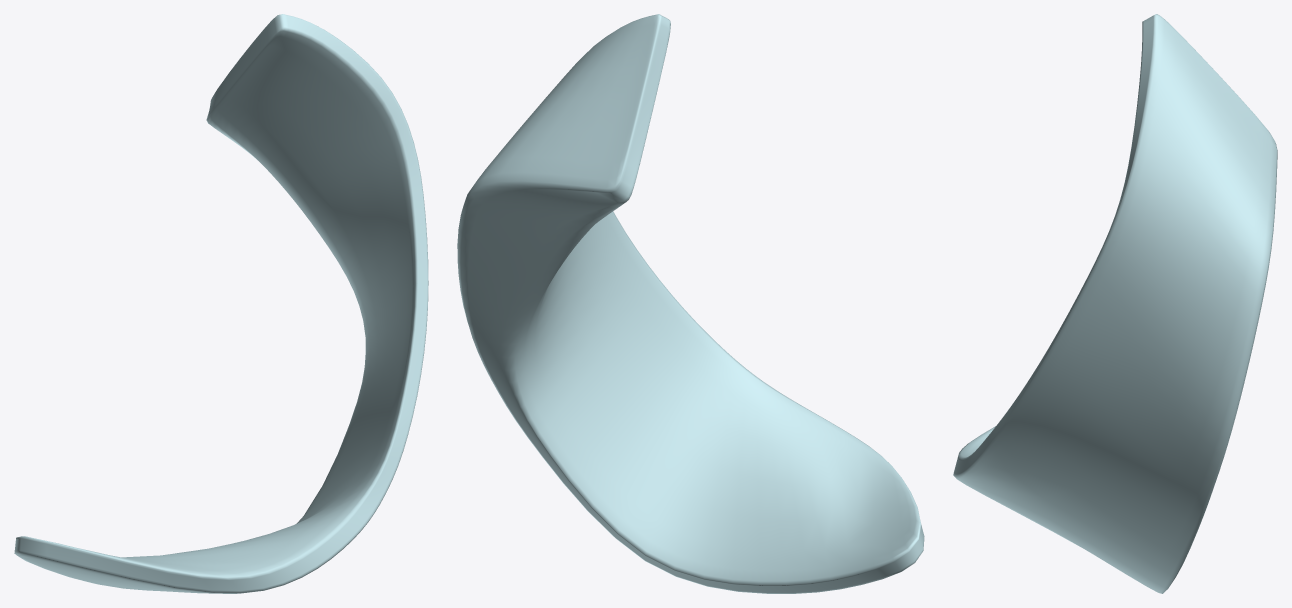
The picture shows the model from 3 angles, left to right: view 1: azimuth 30°, elevation 25°; view 2: azimuth 150°, elevation 25°; view 3: azimuth 270°, elevation 25°; orthographic projection. The views are drawn at different scales.
Visible parts, largest first — view 1: Plane002; view 2: Plane002; view 3: Plane002.
Part boxes in pixels (<box>): Plane002: <box>14,14,428,593</box>; Plane002: <box>457,14,924,593</box>; Plane002: <box>953,14,1277,593</box>.
Size of the model in its own units: 0.4383 by 0.5544 by 0.278.
